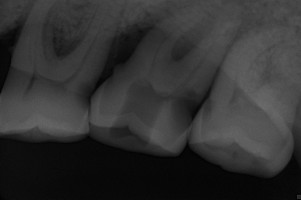Dental Caries: (108, 0, 230, 64)
Endo-Periodontal Lesion: (51, 24, 81, 58)
